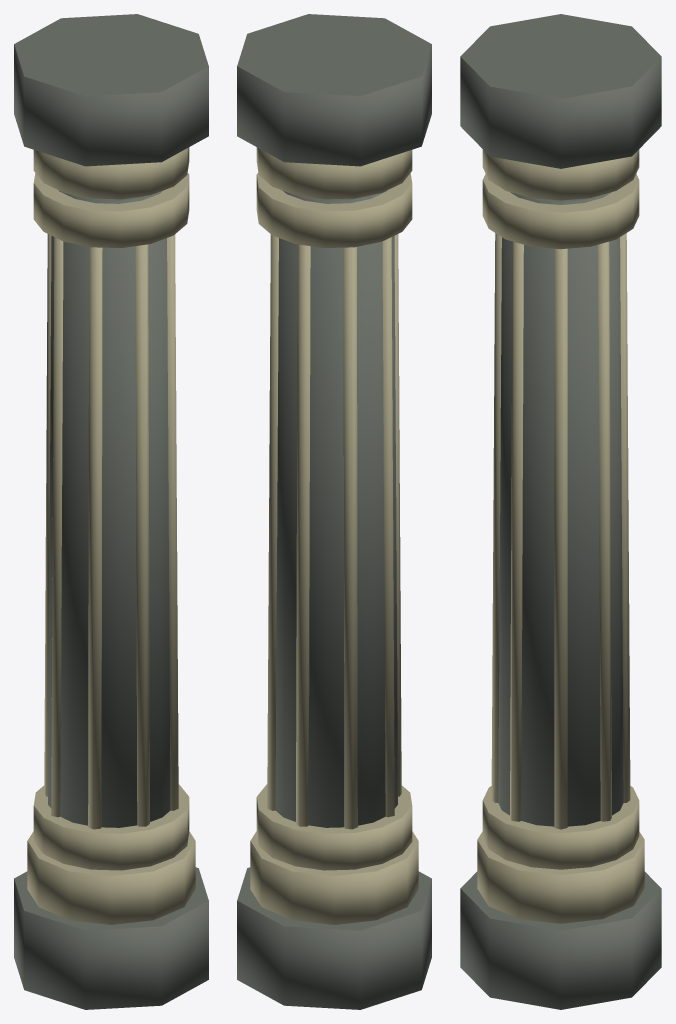
Rendered from pillar.obj.
The picture shows the model from 3 angles, left to right: view 1: azimuth 30°, elevation 25°; view 2: azimuth 150°, elevation 25°; view 3: azimuth 270°, elevation 25°; orthographic projection.
Visible parts, largest first — view 1: pillar; view 2: pillar; view 3: pillar.
Boxes of the visible parts, x1,y1,x2,y2 form: pillar: [14, 14, 208, 1009]; pillar: [237, 14, 431, 1009]; pillar: [460, 14, 661, 1009].
Bounding box in the file's own units: 0.6 × 3 × 0.6.
